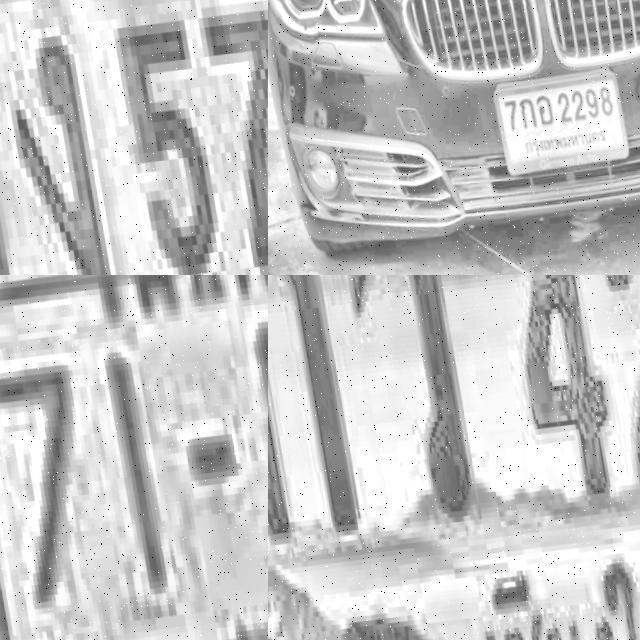license-plate: (268, 275, 640, 640), (0, 275, 268, 640), (0, 0, 268, 275), (483, 72, 622, 179)
